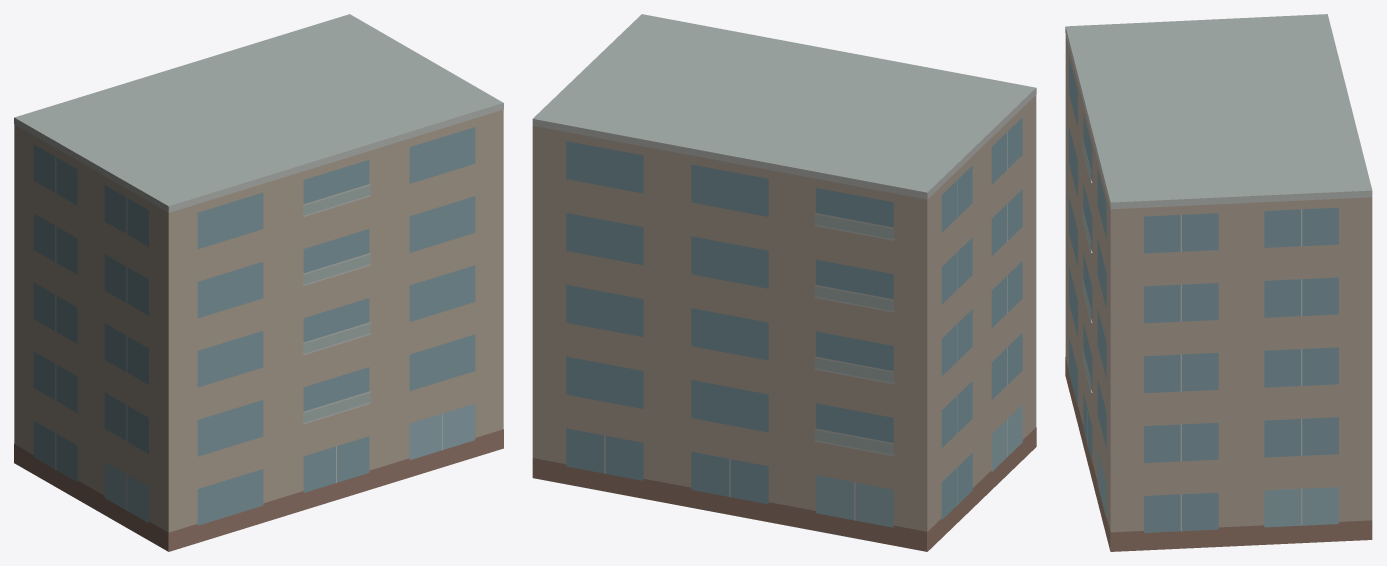
The model's file is survey-upis-32663449.glb.
3 views of the same model, side by side, from view 1: azimuth 30°, elevation 25°; view 2: azimuth 150°, elevation 25°; view 3: azimuth 270°, elevation 25° (orthographic). The views are drawn at different scales.
Visible parts, largest first — view 1: survey-upis-32663449.tmp; view 2: survey-upis-32663449.tmp; view 3: survey-upis-32663449.tmp.
Part boxes in pixels (left/top/right/bottom): survey-upis-32663449.tmp: left=14, top=14, right=503, bottom=551; survey-upis-32663449.tmp: left=532, top=14, right=1036, bottom=551; survey-upis-32663449.tmp: left=1065, top=14, right=1372, bottom=551.
Bounding box in the file's own units: 14.71 × 12.7 × 10.12.
